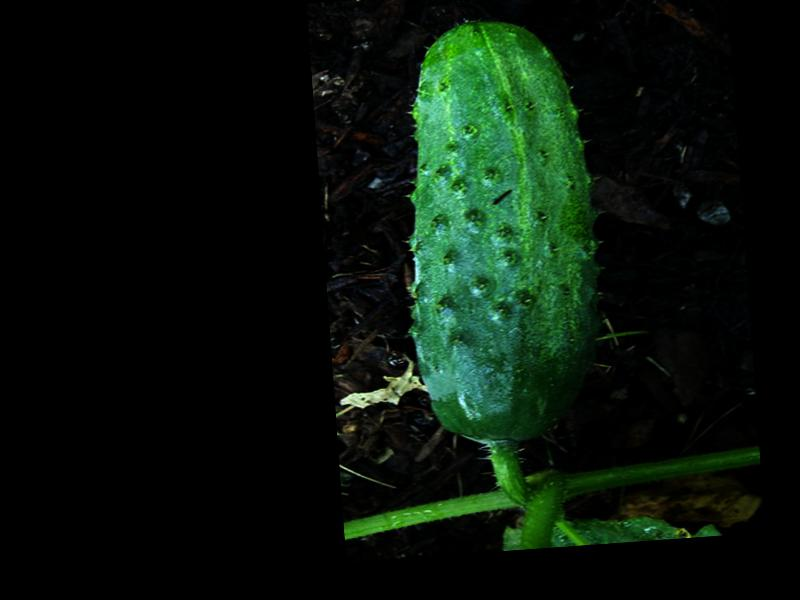Cucumber: (390, 10, 613, 449)
